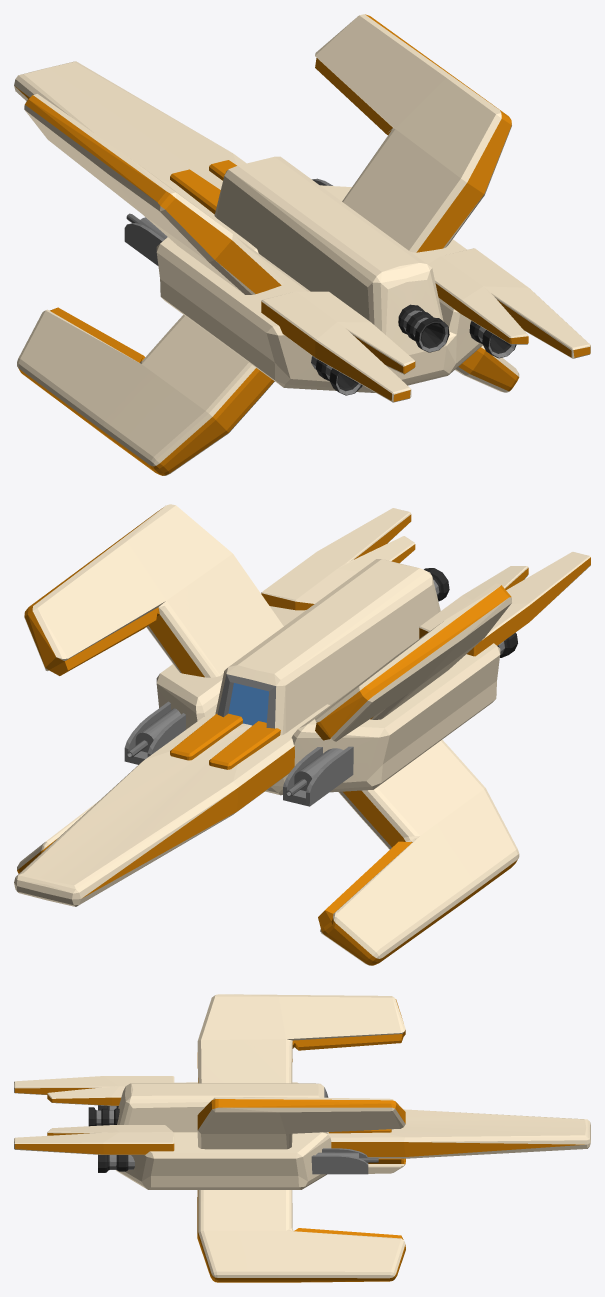
Rendered from Spaceship_03_Merged.fbx.
3 views of the same model, one above another, from view 1: azimuth 30°, elevation 25°; view 2: azimuth 150°, elevation 25°; view 3: azimuth 270°, elevation 25° (orthographic). The views are drawn at different scales.
Parts seen in each view (by area): view 1: Spaceship_03_Merged; view 2: Spaceship_03_Merged; view 3: Spaceship_03_Merged.
Part boxes in pixels (x1,y1,x2,y2): Spaceship_03_Merged: (14, 14, 590, 475); Spaceship_03_Merged: (14, 504, 590, 965); Spaceship_03_Merged: (14, 994, 590, 1282).
Size of the model in its own units: 290 by 213 by 612.
